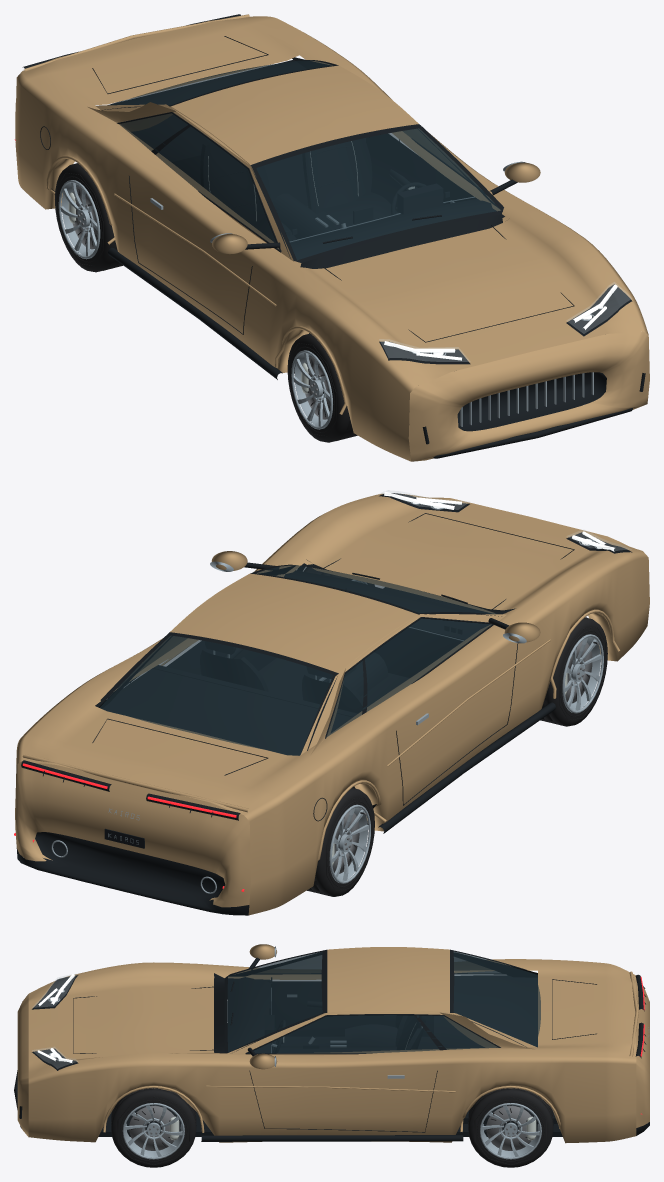
Rendered from nova-lod0.glb.
3 renders of one model, top to bottom at view 1: azimuth 30°, elevation 25°; view 2: azimuth 150°, elevation 25°; view 3: azimuth 270°, elevation 25°, orthographic. The views are drawn at different scales.
Visible parts, largest first — view 1: sculpted-coachwork_merged, carbon-rear-valance_merged, panoramic-windscreen_merged, profiled-tire_merged (×2), rim-barrel_merged (×2), headlamp-clear-lens_merged, door-release_merged, headlamp-projector-optic_merged; view 2: sculpted-coachwork_merged, carbon-rear-valance_merged, panoramic-windscreen_merged, profiled-tire_merged (×2), rim-barrel_merged (×2), door-release_merged, headlamp-projector-optic_merged, headlamp-clear-lens_merged, rear-light-guide_merged; view 3: sculpted-coachwork_merged, carbon-rear-valance_merged, panoramic-windscreen_merged, profiled-tire_merged (×2), rim-barrel_merged (×2), wheel-valve-cap_merged (×2), headlamp-clear-lens_merged, headlamp-projector-optic_merged, door-release_merged.
Part boxes in pixels (<box>): sculpted-coachwork_merged: <box>15,14,649,461</box>; carbon-rear-valance_merged: <box>22,14,645,458</box>; panoramic-windscreen_merged: <box>110,60,500,260</box>; profiled-tire_merged (×2): <box>55,163,357,442</box>; rim-barrel_merged (×2): <box>58,180,332,429</box>; headlamp-clear-lens_merged: <box>379,282,631,361</box>; door-release_merged: <box>150,161,604,426</box>; headlamp-projector-optic_merged: <box>384,284,617,360</box>; sculpted-coachwork_merged: <box>15,493,649,915</box>; carbon-rear-valance_merged: <box>16,493,632,915</box>; panoramic-windscreen_merged: <box>99,565,497,755</box>; profiled-tire_merged (×2): <box>307,617,607,896</box>; rim-barrel_merged (×2): <box>329,634,603,883</box>; door-release_merged: <box>51,502,601,893</box>; headlamp-projector-optic_merged: <box>384,491,614,551</box>; headlamp-clear-lens_merged: <box>380,490,631,550</box>; rear-light-guide_merged: <box>14,763,244,891</box>; sculpted-coachwork_merged: <box>17,944,649,1143</box>; carbon-rear-valance_merged: <box>14,949,649,1141</box>; panoramic-windscreen_merged: <box>227,951,540,1053</box>; profiled-tire_merged (×2): <box>111,1088,553,1167</box>; rim-barrel_merged (×2): <box>122,1103,541,1159</box>; wheel-valve-cap_merged (×2): <box>129,1105,531,1150</box>; headlamp-clear-lens_merged: <box>32,974,77,1068</box>; headlamp-projector-optic_merged: <box>37,974,74,1063</box>; door-release_merged: <box>48,946,649,1078</box>.
Size of the model in its own units: 2.29 by 1.27 by 5.08.
